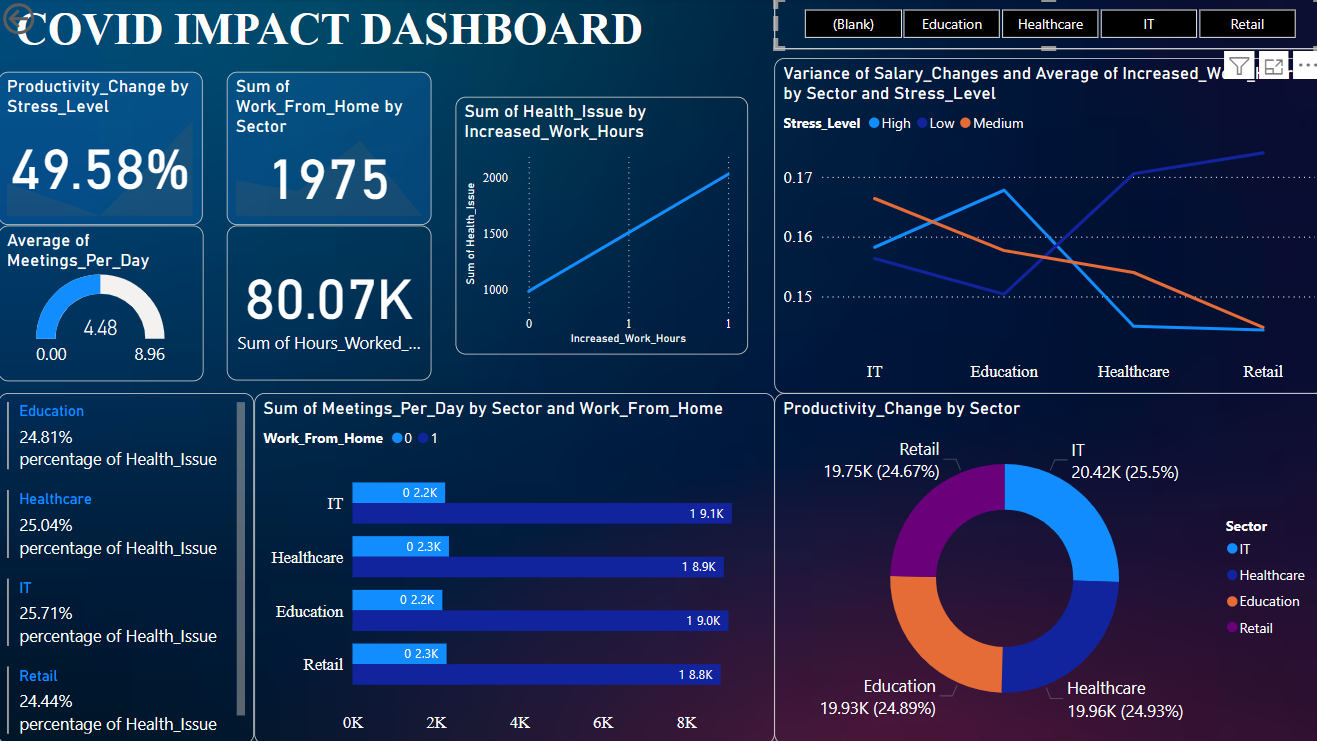

What the dashboard file says about the page in this screenshot:
{"tool":"powerbi","page":{"name":"General View","canvas":[1280,720],"ordinal":0},"visuals":[{"type":"textbox","box":[0,0,639.5,71.4],"z":0},{"type":"lineChart","fields":{"Y":["Sum(tblcoimpact.Salary_Changes)"],"Category":["tblcoimpact.Sector"],"Series":["tblcoimpact.Stress_Level"]},"box":[749.2,57.6,531,323.8],"z":1000},{"type":"donutChart","title":" Productivity_Change by Sector","fields":{"Y":["Sum(tblemployedeets.Hours_Worked_Per_Day)"],"Category":["tblemployedeets.Sector"]},"box":[749.2,381.5,531,338.9],"z":2000},{"type":"clusteredBarChart","fields":{"Category":["tblchallenges.Sector"],"Series":["tblcoimpact.Work_From_Home"],"Y":["Sum(tblcoimpact.Meetings_Per_Day)"]},"box":[247,381.5,502.2,338.9],"z":3000},{"type":"kpi","fields":{"Indicator":["Sum(tblcoimpact.Productivity_Change)"],"TrendLine":["tblcoimpact.Stress_Level"]},"box":[0,71.4,197.6,148.2],"z":4000},{"type":"kpi","fields":{"Indicator":["Sum(tblcoimpact.Work_From_Home)"],"TrendLine":["tblcoimpact.Sector"]},"box":[220.9,71.4,197.6,148.2],"z":5000},{"type":"multiRowCard","fields":{"Values":["tblemployedeets.Sector","Sum(tblhealth.Health_Issue)"]},"box":[0,381.5,247,338.9],"z":6000},{"type":"lineChart","fields":{"Y":["Sum(tblcoimpact.Health_Issue)"],"Category":["tblcoimpact.Increased_Work_Hours"]},"box":[441.6,95.3,282.3,248.5],"z":7000},{"type":"actionButton","box":[0,0,100,40],"z":8000},{"type":"gauge","fields":{"Y":["Avg(tblcoimpact.Meetings_Per_Day)"]},"box":[0,219,198,150],"z":9000},{"type":"card","fields":{"Values":["Sum(tblcoimpact.Hours_Worked_Per_Day)"]},"box":[221,219,198,150],"z":10000},{"type":"slicer","fields":{"Values":["tblemployedeets.Sector"]},"box":[749.2,0,530.8,57.9],"z":11000}]}

Visuals, with their boxes in screenshot pixels (x1, y1, x2, y2), scaled from the page's 1280x720 canvas onto the 1317x741 screenshot:
textbox: [0,0,658,73]
lineChart - Sum(tblcoimpact.Salary_Changes) x tblcoimpact.Sector: [771,59,1316,393]
" Productivity_Change by Sector" donutChart: [771,393,1316,740]
clusteredBarChart - tblchallenges.Sector x tblcoimpact.Work_From_Home: [254,393,771,740]
kpi - Sum(tblcoimpact.Productivity_Change) x tblcoimpact.Stress_Level: [0,73,203,226]
kpi - Sum(tblcoimpact.Work_From_Home) x tblcoimpact.Sector: [227,73,431,226]
multiRowCard - tblemployedeets.Sector x Sum(tblhealth.Health_Issue): [0,393,254,740]
lineChart - Sum(tblcoimpact.Health_Issue) x tblcoimpact.Increased_Work_Hours: [454,98,745,354]
actionButton: [0,0,103,41]
gauge - Avg(tblcoimpact.Meetings_Per_Day): [0,225,204,380]
card - Sum(tblcoimpact.Hours_Worked_Per_Day): [227,225,431,380]
slicer - tblemployedeets.Sector: [771,0,1316,60]
